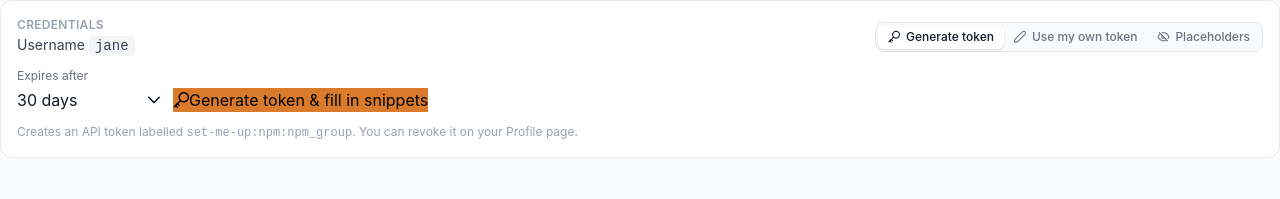
TokenCard › shows the server error when generation fails
This screenshot has width=1280, height=199.
Click the button with test id "generate-token": (301, 100) left=173, top=88, right=428, bottom=112
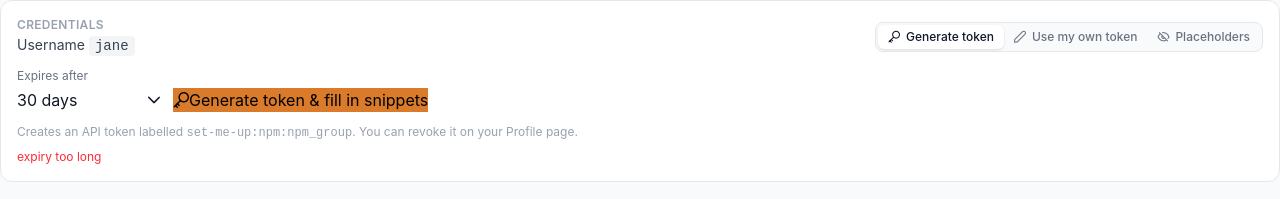
Now the message with test id "token-error" reads "expiry too long", box left=17, top=149, right=102, bottom=164
